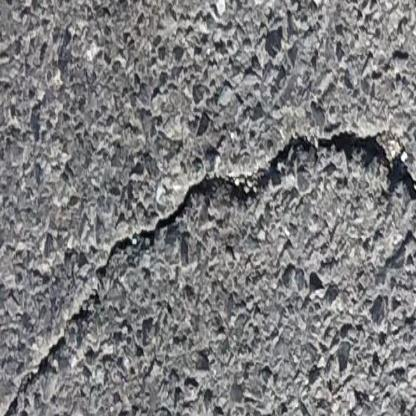Cracks: (0, 121, 416, 416)
